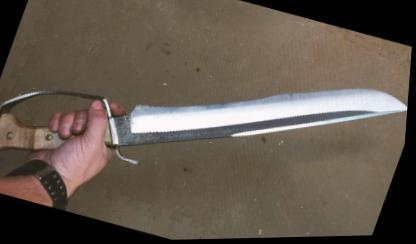knife: (67, 5, 414, 240)
